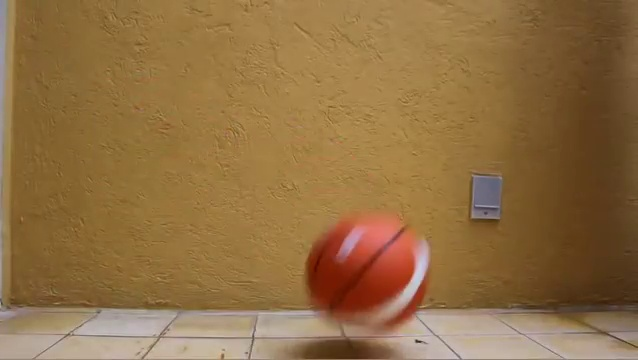ball: (306, 211, 430, 330)
